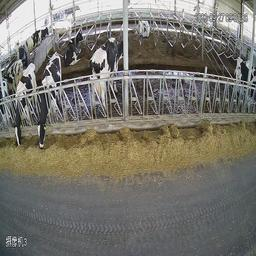cow: (87, 33, 122, 111), (39, 50, 61, 147), (15, 57, 36, 145), (64, 26, 86, 65), (24, 26, 50, 49), (48, 20, 72, 43), (7, 60, 21, 90), (12, 38, 28, 64), (136, 16, 151, 38)
